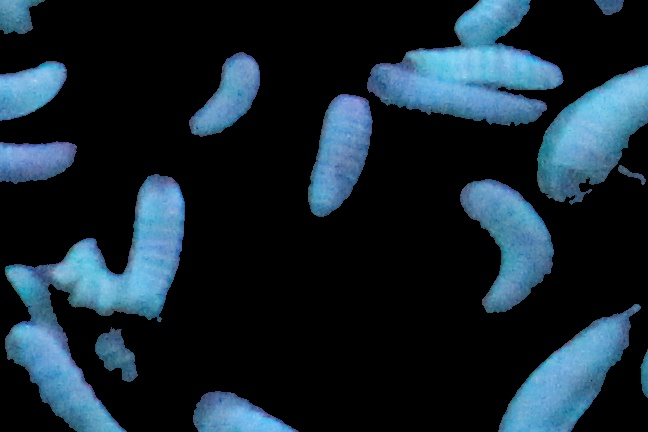larvae: (494, 305, 639, 432), (536, 67, 648, 204), (455, 174, 557, 324), (6, 322, 133, 432), (366, 60, 547, 125), (125, 167, 186, 321), (306, 94, 372, 219), (405, 43, 566, 94), (186, 50, 271, 139), (193, 388, 309, 432), (439, 1, 536, 44), (1, 61, 67, 123), (1, 139, 81, 184)
